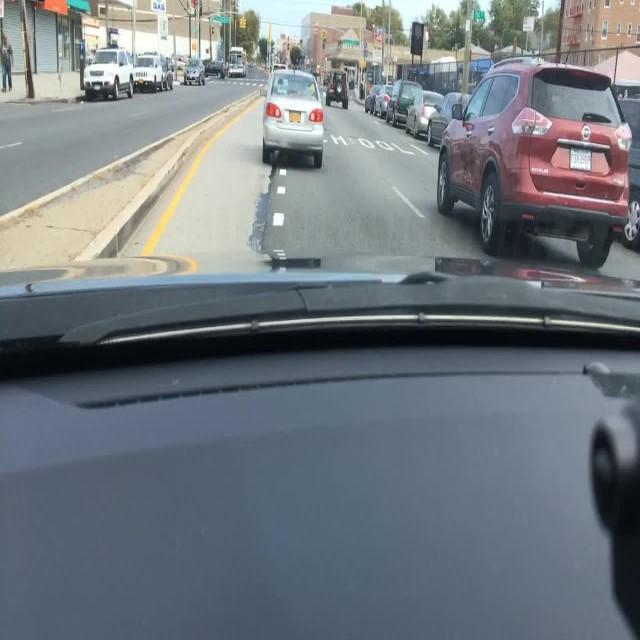normal: (436, 58, 639, 268), (262, 71, 328, 169), (83, 46, 138, 100), (427, 91, 468, 148), (407, 89, 449, 141), (384, 81, 421, 129), (132, 55, 170, 93), (373, 84, 395, 118), (363, 84, 383, 116), (184, 61, 205, 86), (204, 62, 226, 79)
